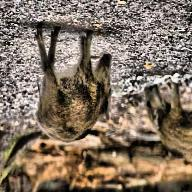boar: (22, 13, 136, 167), (139, 80, 192, 167)
